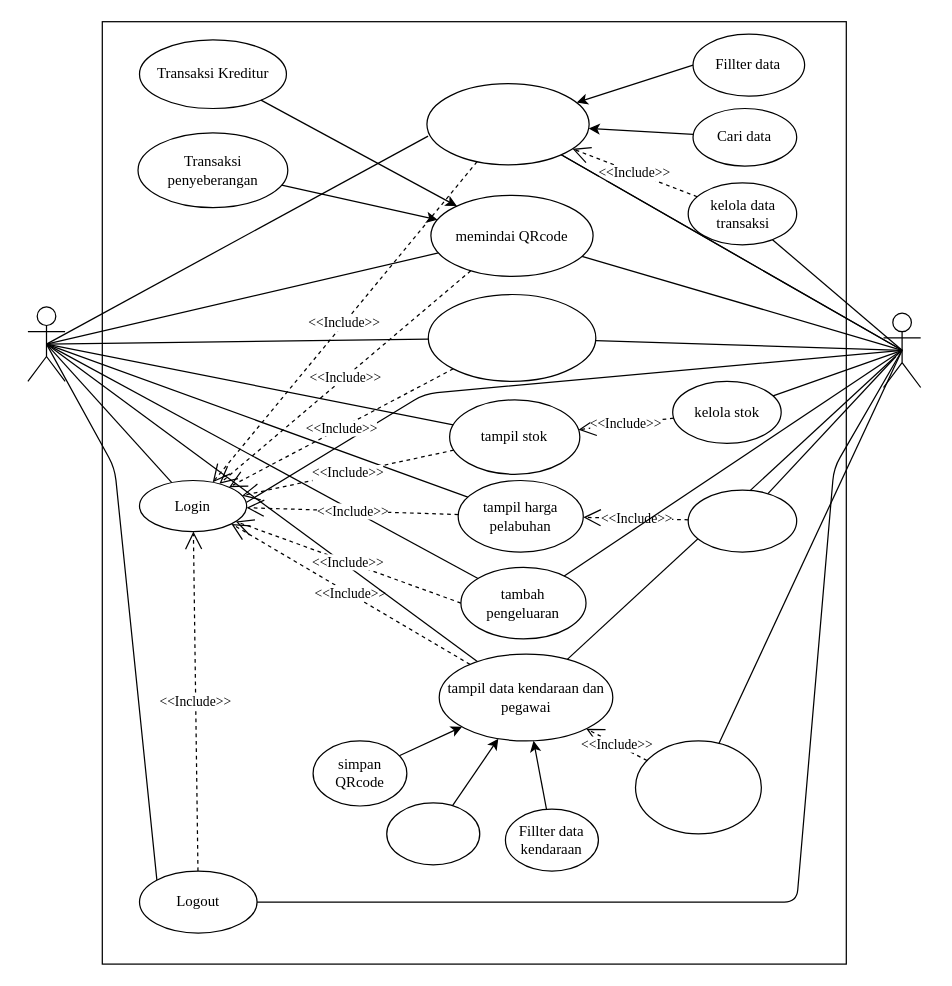
The diagram is 952 pixels wide and 986 high, and some of its shapes have lost their labels. Here are the shapes that lost their labels. From the top down, the centre of each, then its label:
At point 507,123: "Tampil data transaksi".
At point 46,343: "Pegawai".
At point 511,337: "rekap harian".
At point 901,350: "Pimpinan".
At point 742,520: "kelola harga pelabuhan".
At point 697,787: "Kelola Data kendaraan dan pegawai".
At point 433,833: "Cari data kendaraan".
